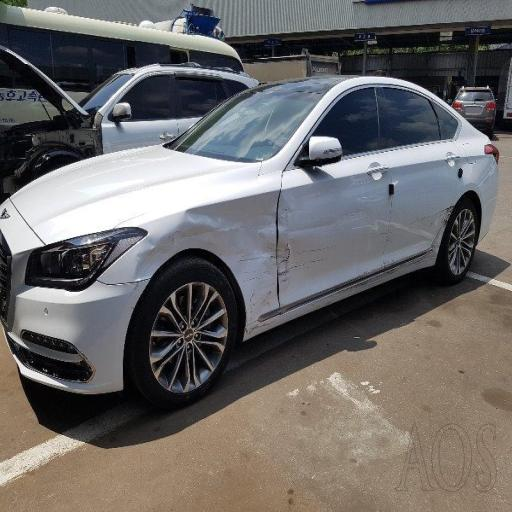dent: (165, 197, 276, 299)
scratch: (287, 202, 424, 300)
